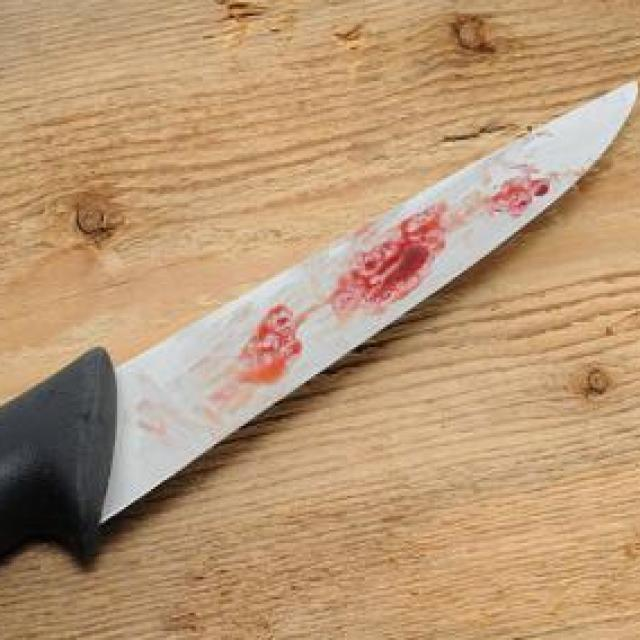knife: (0, 76, 640, 582)
